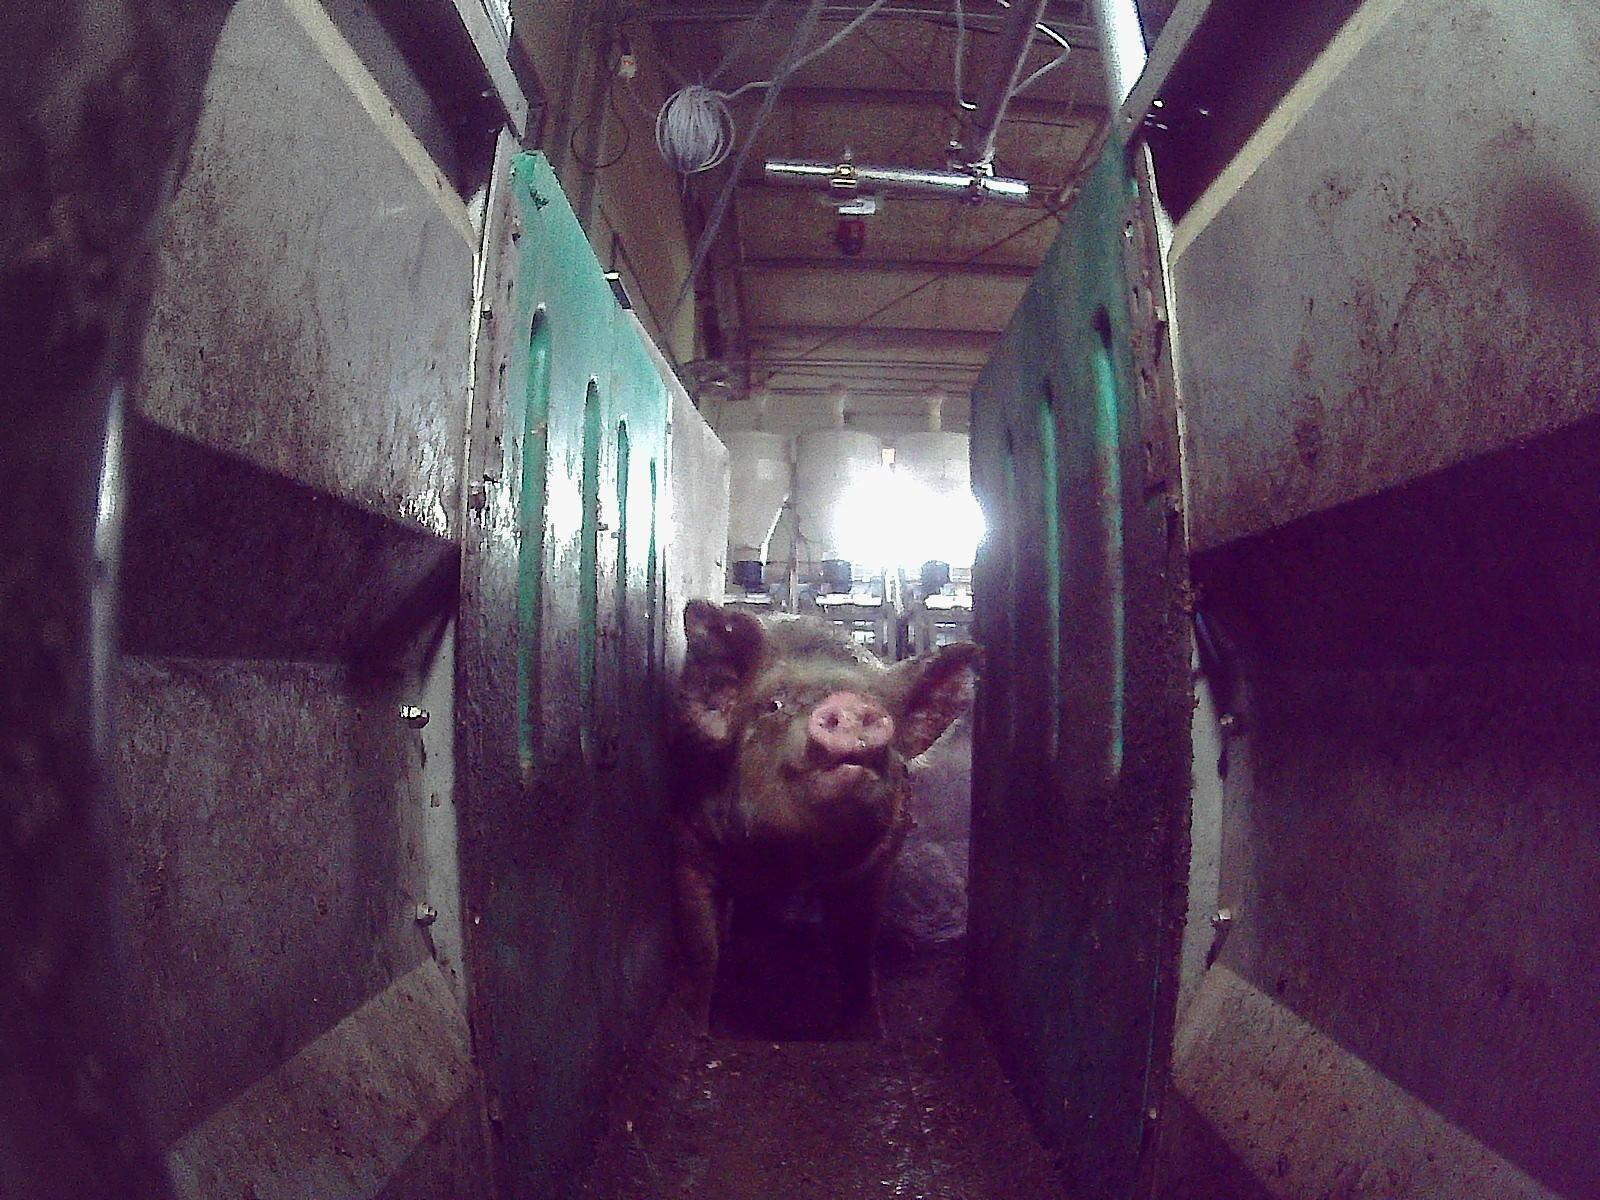Face: (725, 648, 901, 864)
